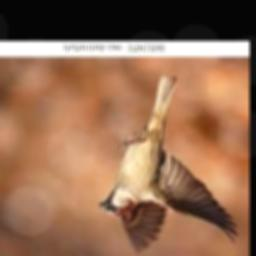Sparrow: (99, 75, 238, 253)
